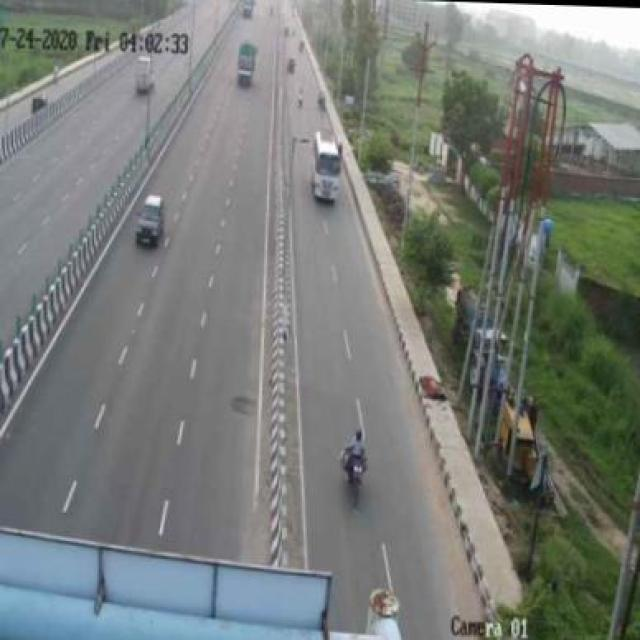car: (132, 190, 175, 250), (231, 34, 265, 96)
